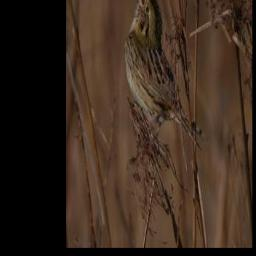Sparrow: (124, 0, 211, 152)
